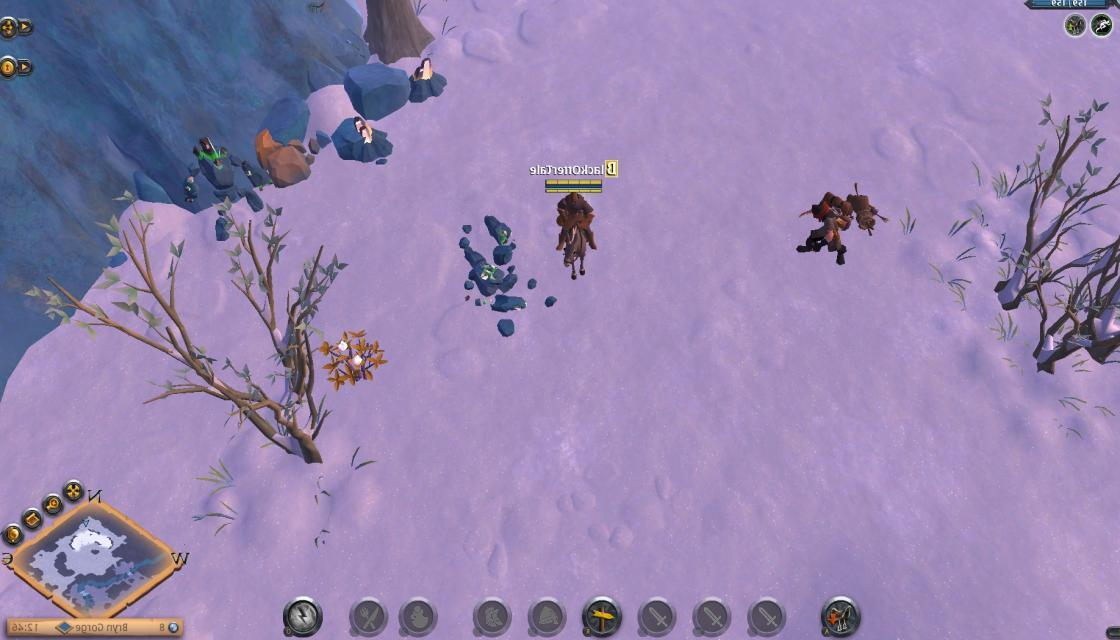copperore: (336, 109, 392, 163), (404, 54, 446, 98)
limestone: (254, 126, 315, 185)
